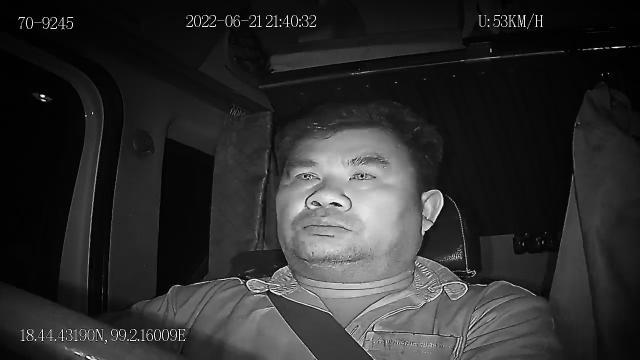SafeDriving: (341, 156, 387, 188), (286, 162, 327, 191)
Seatbelt: (266, 286, 374, 360)
